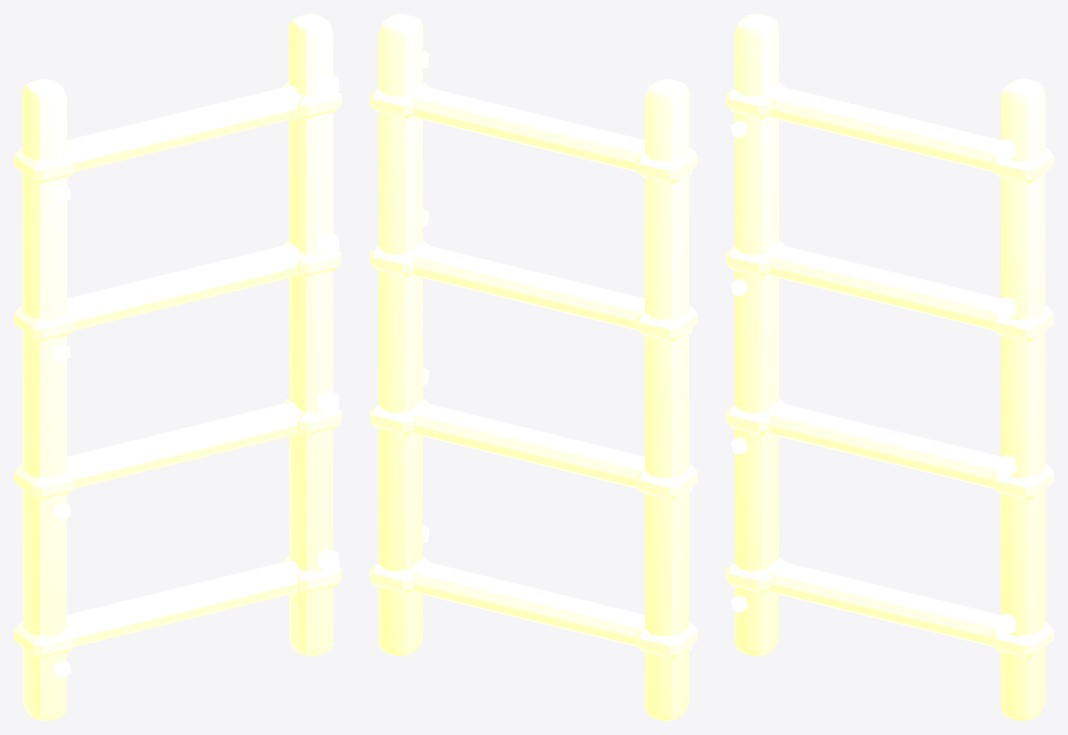
File: exit_ladder.glb
3 renders of one model, left to right at view 1: azimuth 30°, elevation 25°; view 2: azimuth 150°, elevation 25°; view 3: azimuth 330°, elevation 25°, orthographic.
Parts seen in each view (by area): view 1: exit_ladder; view 2: exit_ladder; view 3: exit_ladder.
Part boxes in pixels (x1,y1,x2,y2): exit_ladder: [14, 14, 341, 720]; exit_ladder: [370, 14, 697, 720]; exit_ladder: [726, 14, 1053, 720].
Bounding box in the file's own units: 0.51 × 1 × 0.1028.
